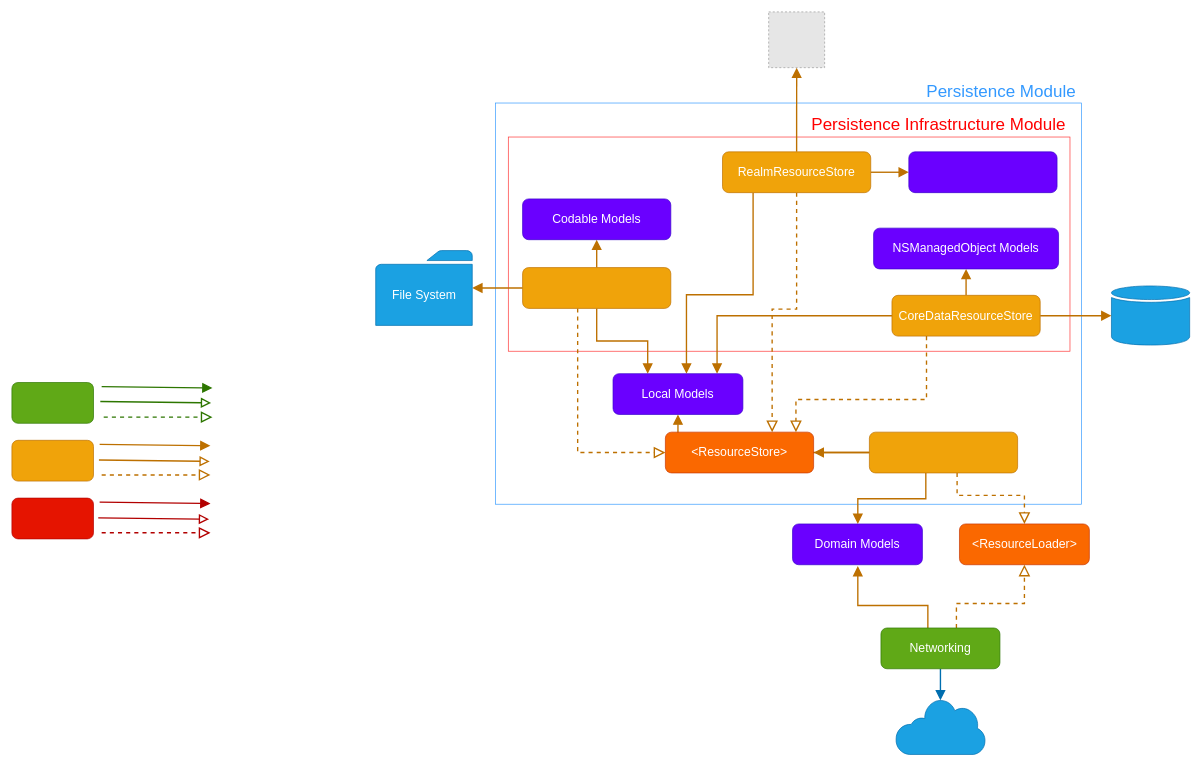
Some shapes in this 1202 by 766 pixel diagram are drawn without their labels. Grey dashed boxes stand in for pictures. The shapes that lost their labels are listed below. From the top down, each one's centre as x and y in pixels, then its label:
At point 982,172: "RealmObject Models".
At point 596,287: "DiskResourceStore".
At point 1150,315: "Core Data".
At point 943,452: "LocalResourceLoader".
At point 940,726: "Backend".
